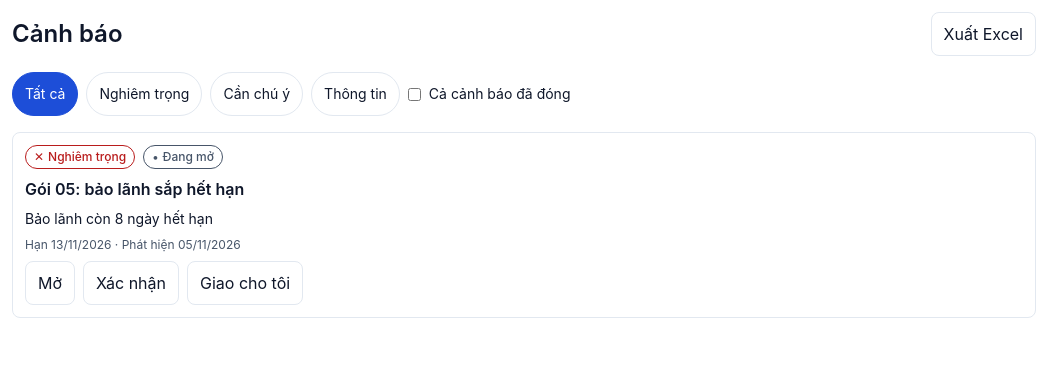
Scenario: AlertsPage › critical alerts have no snooze button and swiping right explains why
Expected: the heading "Gói 05: bảo lãnh sắp hết hạn" is shown, 25,179 -> 244,199
Expected: the button "Hoãn" is not shown
Press the mouse on the element with test id "swipe-row" at (524, 225), box 12,132 -> 1036,318
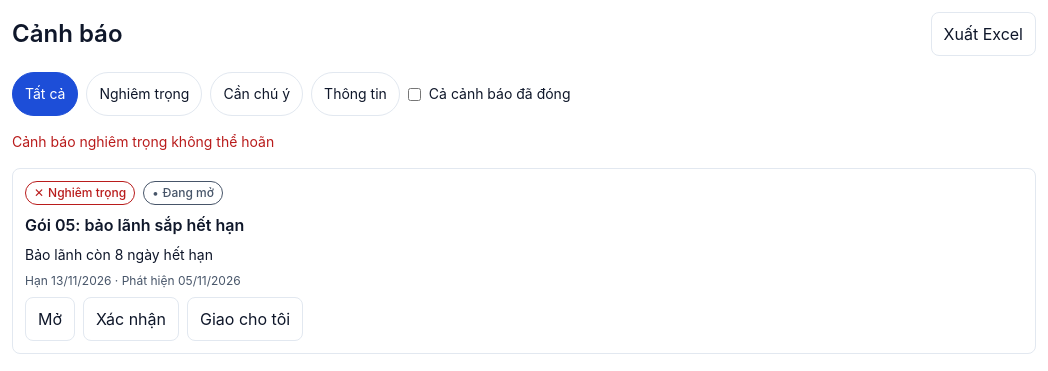
Expected: the message reads "Cảnh báo nghiêm trọng không thể hoãn", 12,133 -> 274,150
